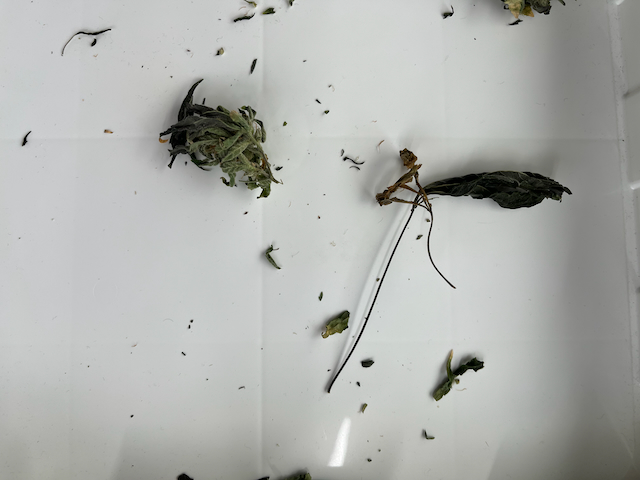Bud: (186, 106, 271, 193)
Leaf: (423, 167, 579, 213)
Stem: (344, 199, 417, 398), (423, 216, 466, 301)
